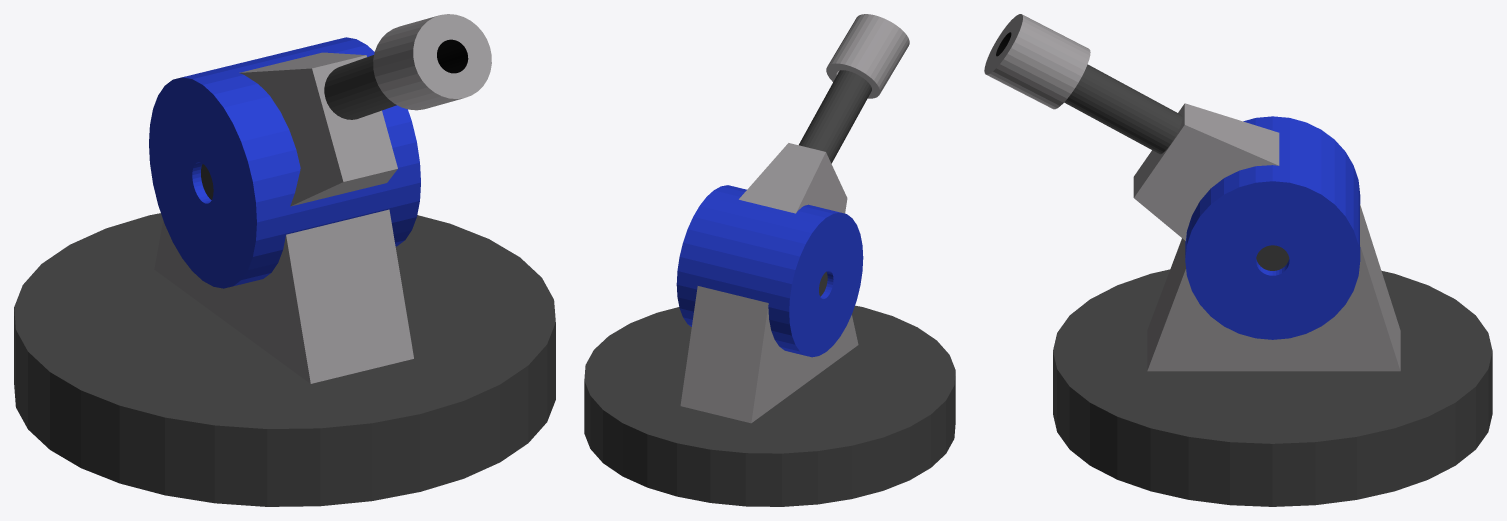
Rendered from SimpleCannon.fbx.
The picture shows the model from 3 angles, left to right: view 1: azimuth 30°, elevation 25°; view 2: azimuth 150°, elevation 25°; view 3: azimuth 270°, elevation 25°; orthographic projection. The views are drawn at different scales.
Visible parts, largest first — view 1: Cylinder; view 2: Cylinder; view 3: Cylinder.
Boxes of the visible parts, box(x1,y1,x2,y2) form: Cylinder: box(14, 14, 555, 506); Cylinder: box(584, 14, 955, 506); Cylinder: box(984, 14, 1492, 506).
Size of the model in its own units: 200 by 199 by 231.
